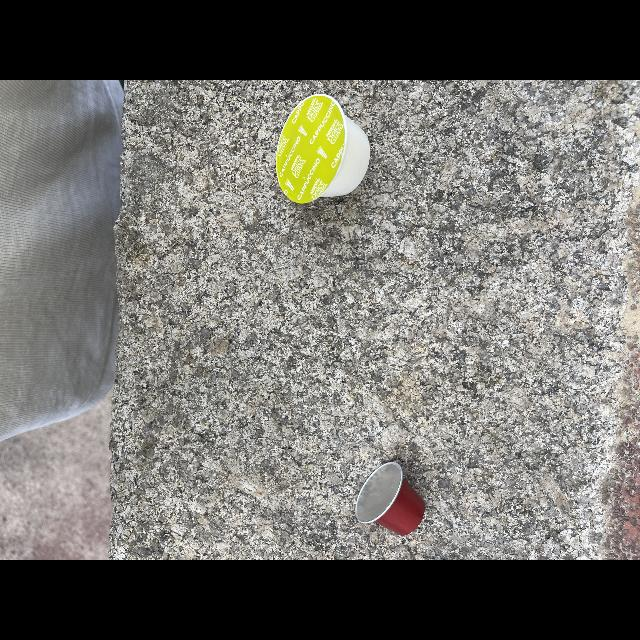intact_capsule: (270, 91, 380, 212), (348, 457, 432, 543)
